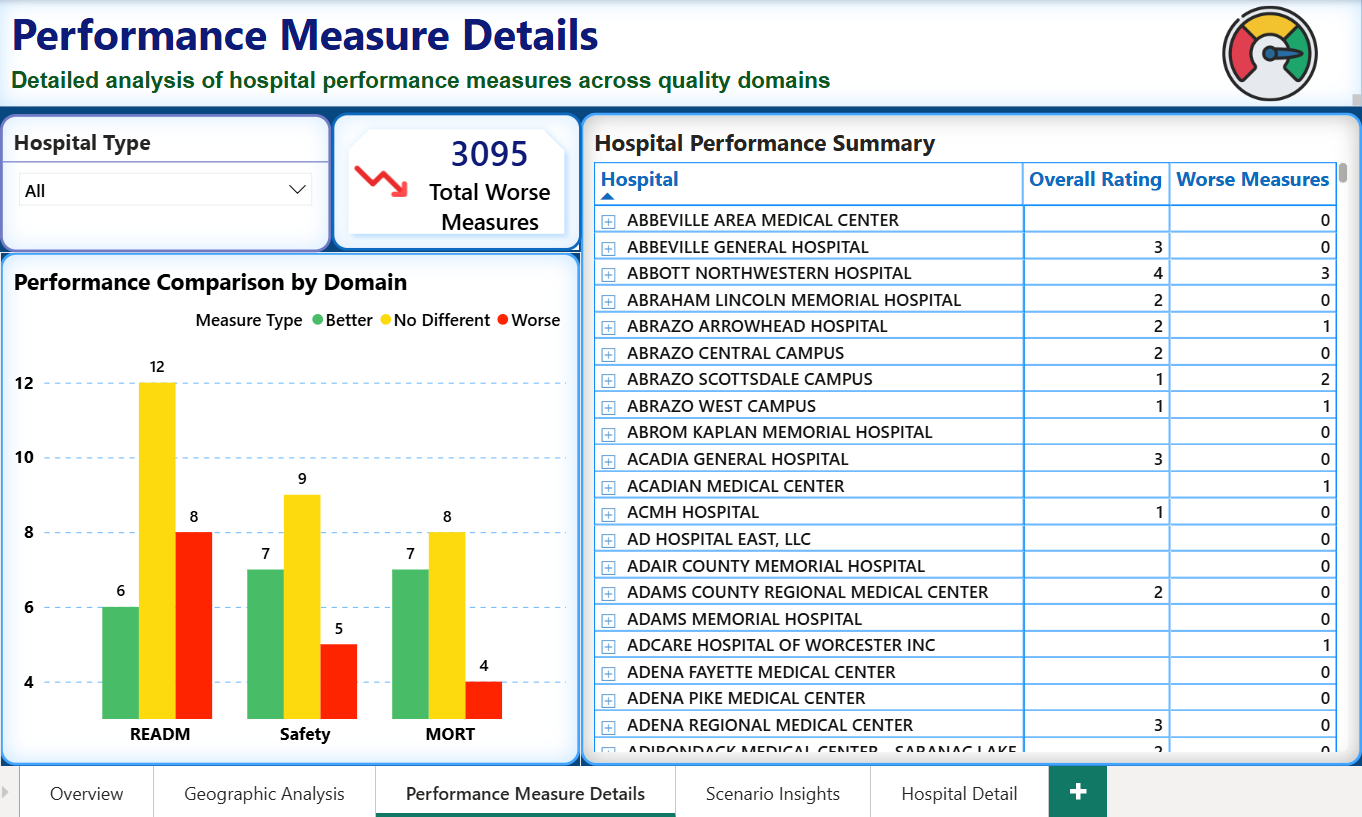

This screenshot's page, from the dashboard's own definition file:
{"tool":"powerbi","page":{"name":"Performance Measure Details","canvas":[1280,720],"ordinal":2},"visuals":[{"type":"pivotTable","title":"Hospital Performance Summary","fields":{"Rows":["Fact_Hospital.Facility_Name","Fact_Hospital.Hospital_Type"],"Values":["Sum(Fact_Hospital.Hospital overall rating)","Measures_Table.Worse Count"]},"box":[545.5,106.3,734.6,614.3],"z":0},{"type":"textbox","title":"Performance Measure Details","box":[0,0,1280.1,100],"z":1000},{"type":"clusteredColumnChart","title":"Performance Comparison by Domain","fields":{"Y":["Count(Fact_Hospital_Domain.Value)"],"Category":["Fact_Hospital_Domain.Domain"],"Series":["Fact_Hospital_Domain.Measure Type"]},"box":[0,237.6,545.5,483],"z":2000},{"type":"slicer","title":"Hospital Type","fields":{"Values":["Dim_HospitalType.Hospital_Type"]},"box":[0,107.8,311,129.7],"z":3000},{"type":"cardVisual","title":"Total Hospitals","fields":{"Data":["Sum(Fact_Hospital_Domain.Value)"]},"box":[311,106.3,235,130],"z":4000},{"type":"image","box":[1144.1,0,100,100],"z":5000}]}

Visuals, with their boxes on the page's 1280x720 design canvas (x1, y1, x2, y2). These are canvas units, not pixel positions in the 1362x817 screenshot, which may show the page scaled, cropped or inside an application window:
"Hospital Performance Summary" pivotTable: <box>546,106,1280,721</box>
"Performance Measure Details" textbox: <box>0,0,1280,100</box>
"Performance Comparison by Domain" clusteredColumnChart: <box>0,238,546,721</box>
"Hospital Type" slicer: <box>0,108,311,238</box>
"Total Hospitals" cardVisual: <box>311,106,546,236</box>
image: <box>1144,0,1244,100</box>
